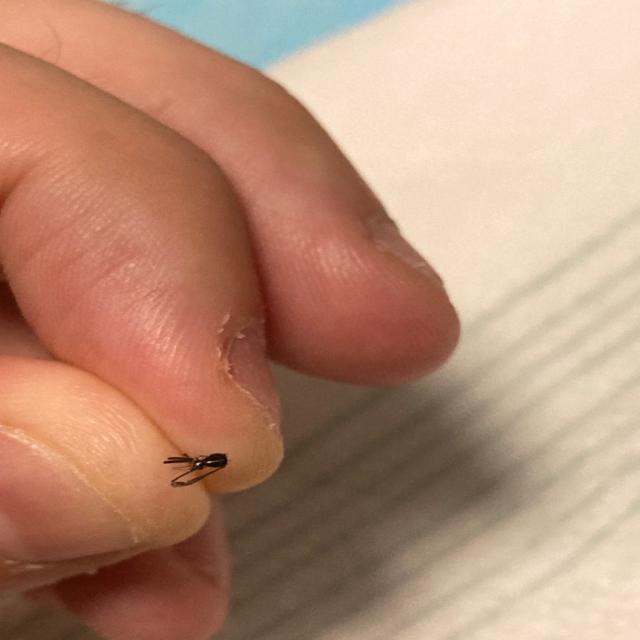albopictus: (157, 436, 234, 488)
